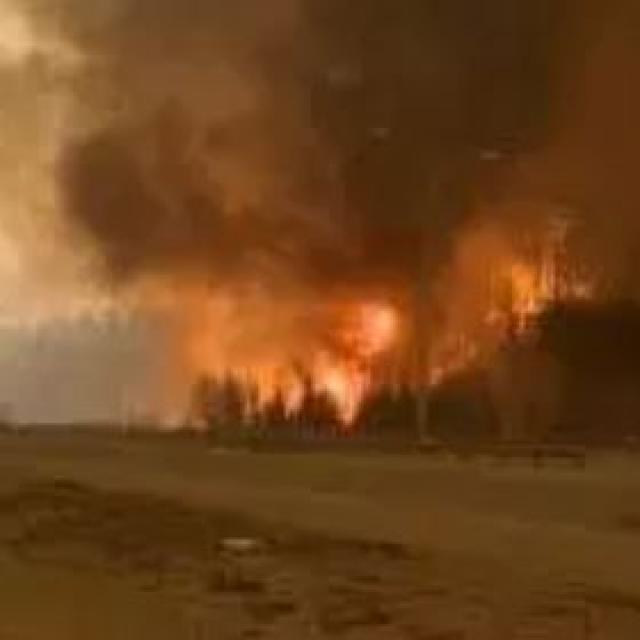Fire: (230, 299, 413, 430), (442, 252, 582, 356)
Smoke: (50, 0, 640, 262)
